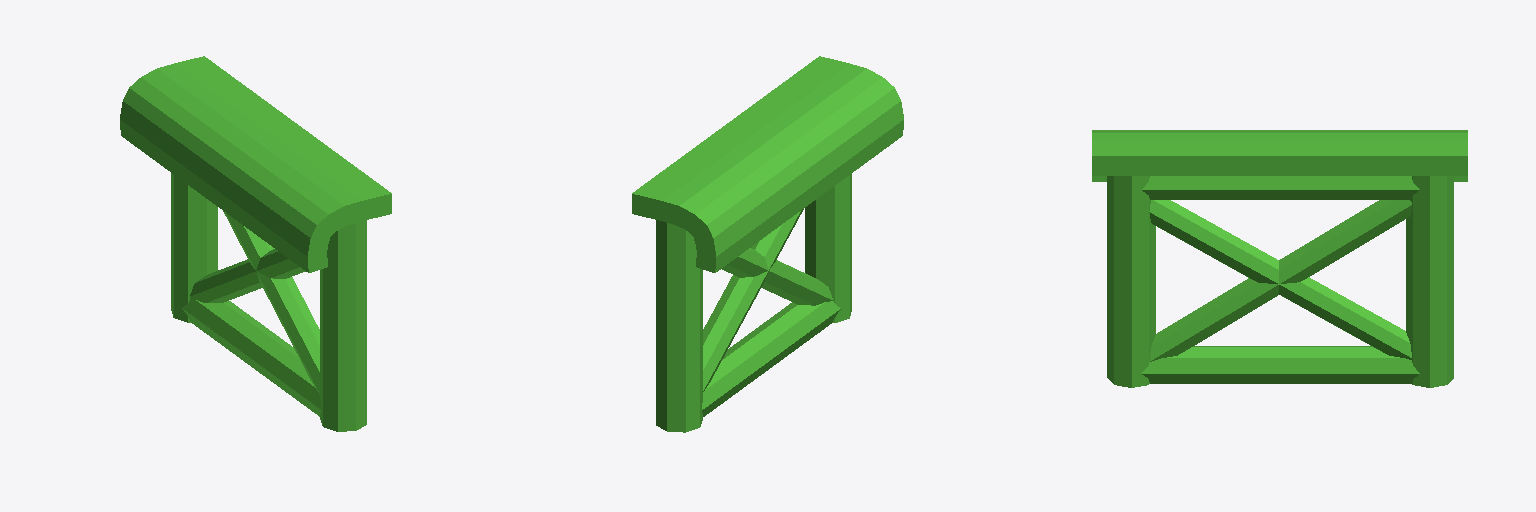
Rendered from bamboo_table_right.obj.
3 views of the same model, side by side, from view 1: azimuth 30°, elevation 25°; view 2: azimuth 150°, elevation 25°; view 3: azimuth 270°, elevation 25° (orthographic).
Parts seen in each view (by area): view 1: bamboo_table_right; view 2: bamboo_table_right; view 3: bamboo_table_right.
Part boxes in pixels (x1,y1,x2,y2): bamboo_table_right: (120,56,391,431); bamboo_table_right: (632,56,903,432); bamboo_table_right: (1092,130,1467,387).
Bounding box in the file's own units: 17.78 × 48.43 × 68.24.